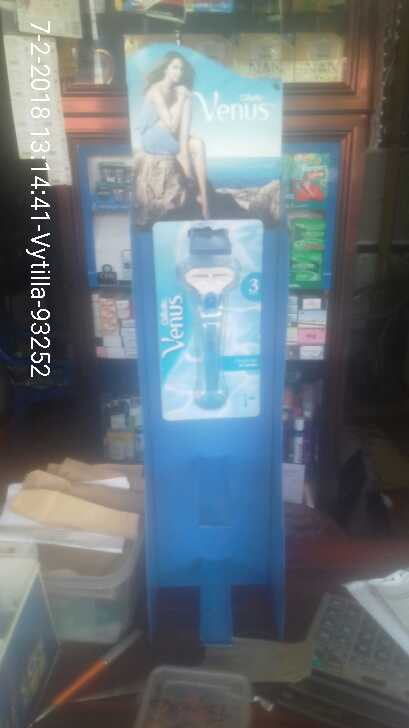venus: (147, 214, 258, 425)
